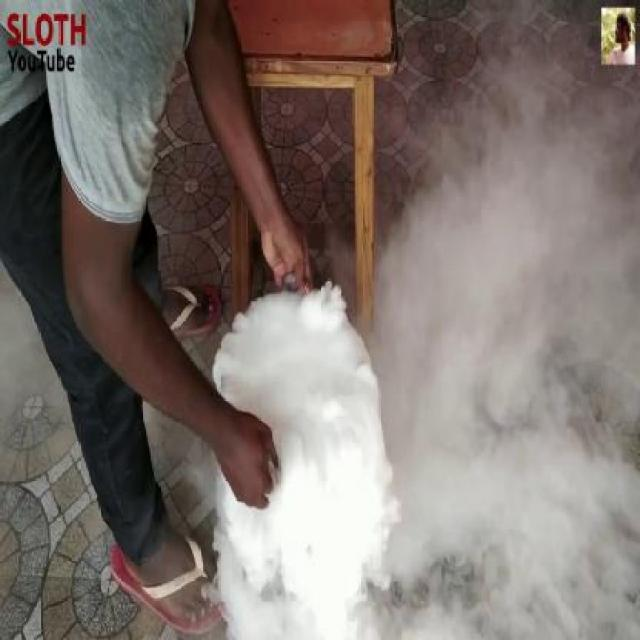smoke: (218, 216, 562, 621)
